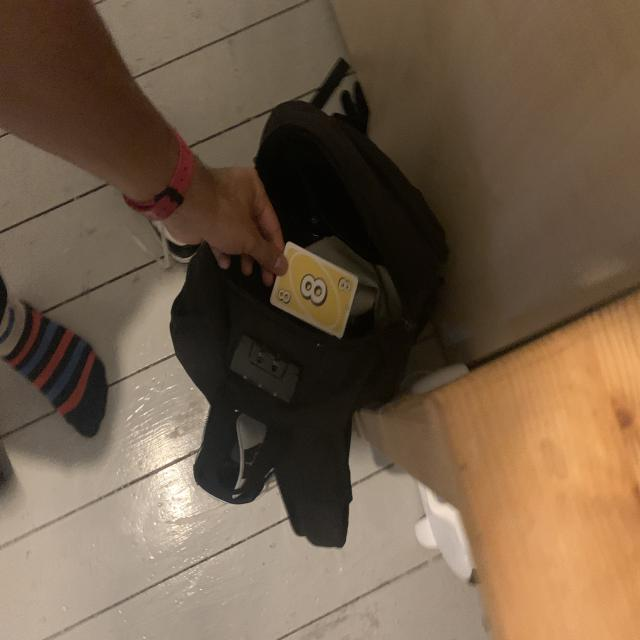lyellow-8: (274, 284, 295, 308)
